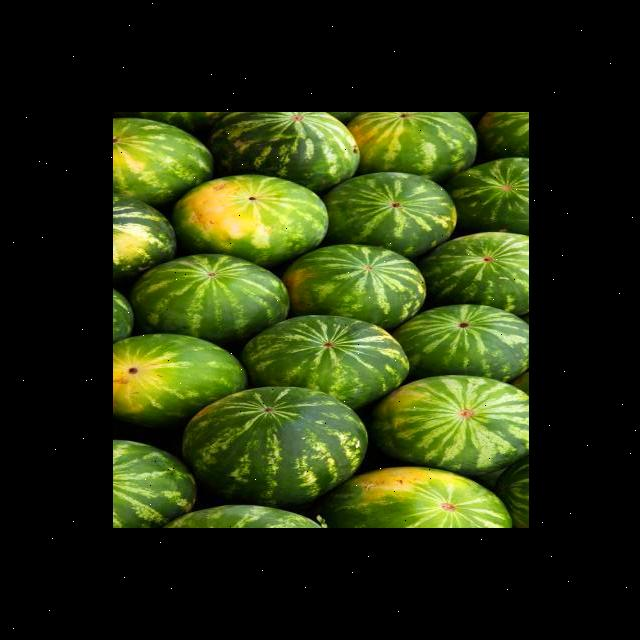watermelon: (181, 386, 369, 509), (371, 374, 528, 478), (168, 169, 330, 268), (243, 314, 411, 409), (127, 252, 290, 342), (112, 332, 248, 433), (283, 243, 427, 330), (204, 112, 360, 191), (309, 467, 511, 528), (322, 170, 458, 256), (391, 304, 528, 384), (112, 117, 214, 210), (419, 232, 528, 316), (346, 112, 476, 178), (112, 439, 197, 528), (452, 156, 528, 237), (112, 196, 176, 273), (164, 504, 322, 528), (475, 113, 528, 157), (496, 456, 528, 528), (112, 288, 134, 344)
